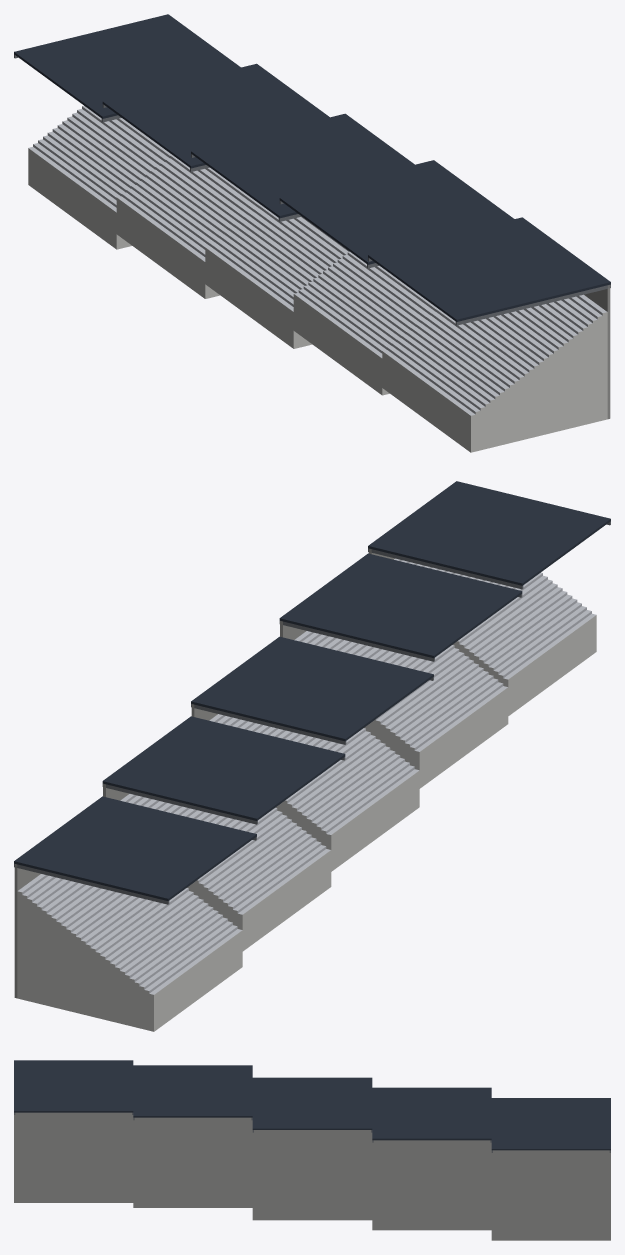
File: stand_raidillon.glb
3 renders of one model, top to bottom at view 1: azimuth 30°, elevation 25°; view 2: azimuth 150°, elevation 25°; view 3: azimuth 270°, elevation 25°, orthographic. The views are drawn at different scales.
Visible parts, largest first — view 1: chunk_0_0; view 2: chunk_0_0; view 3: chunk_0_0.
Boxes of the visible parts, x1=… form: chunk_0_0: x1=14, y1=14, x2=610, y2=452; chunk_0_0: x1=14, y1=481, x2=610, y2=1031; chunk_0_0: x1=14, y1=1060, x2=610, y2=1240.
Size of the model in its own units: 27.1 by 32.31 by 135.
